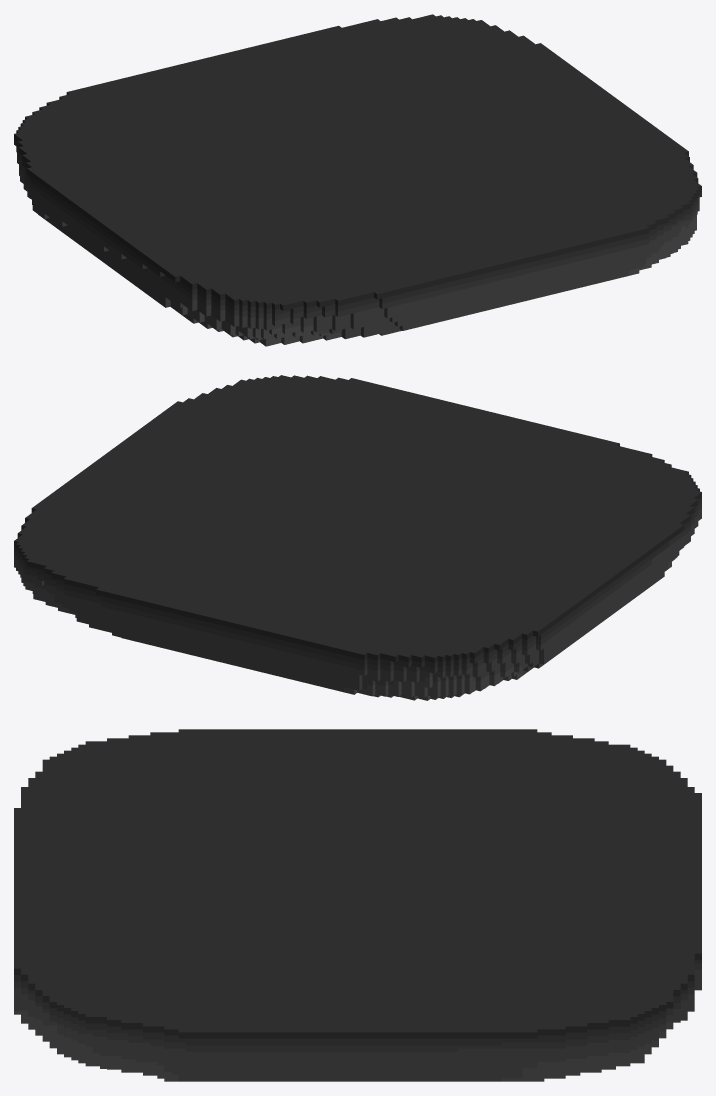
Rendered from Circle Mountain.obj.
3 views of the same model, one above another, from view 1: azimuth 30°, elevation 25°; view 2: azimuth 150°, elevation 25°; view 3: azimuth 270°, elevation 25° (orthographic). The views are drawn at different scales.
Parts seen in each view (by area): view 1: Circle Mountain; view 2: Circle Mountain; view 3: Circle Mountain.
Part boxes in pixels (x1,y1,x2,y2): Circle Mountain: (14,14,701,346); Circle Mountain: (14,375,701,700); Circle Mountain: (14,729,701,1081).
Bounding box in the file's own units: 100 × 9 × 96.
1 material, 1 textured.
